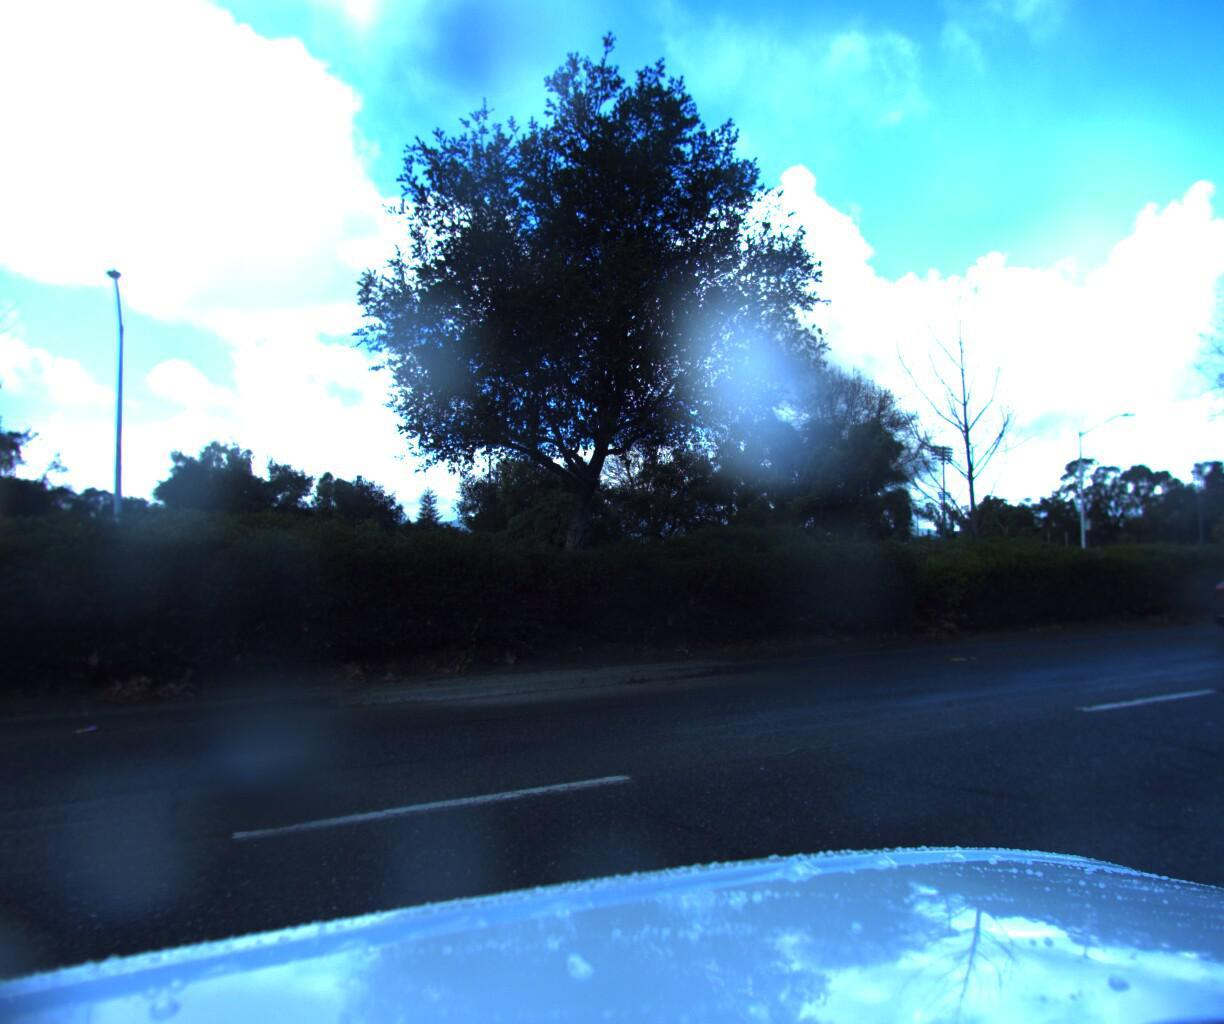car: (1171, 550, 1224, 644)
